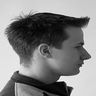ear: (35, 40, 56, 62)
